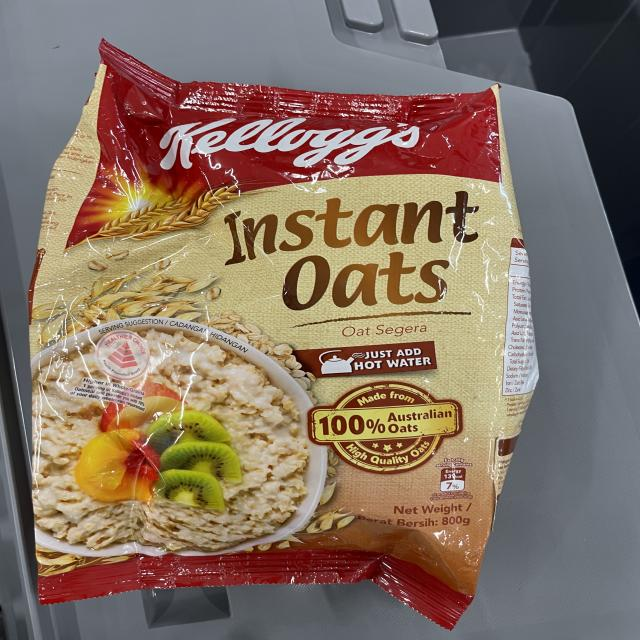object_name: (53, 59, 493, 600)
